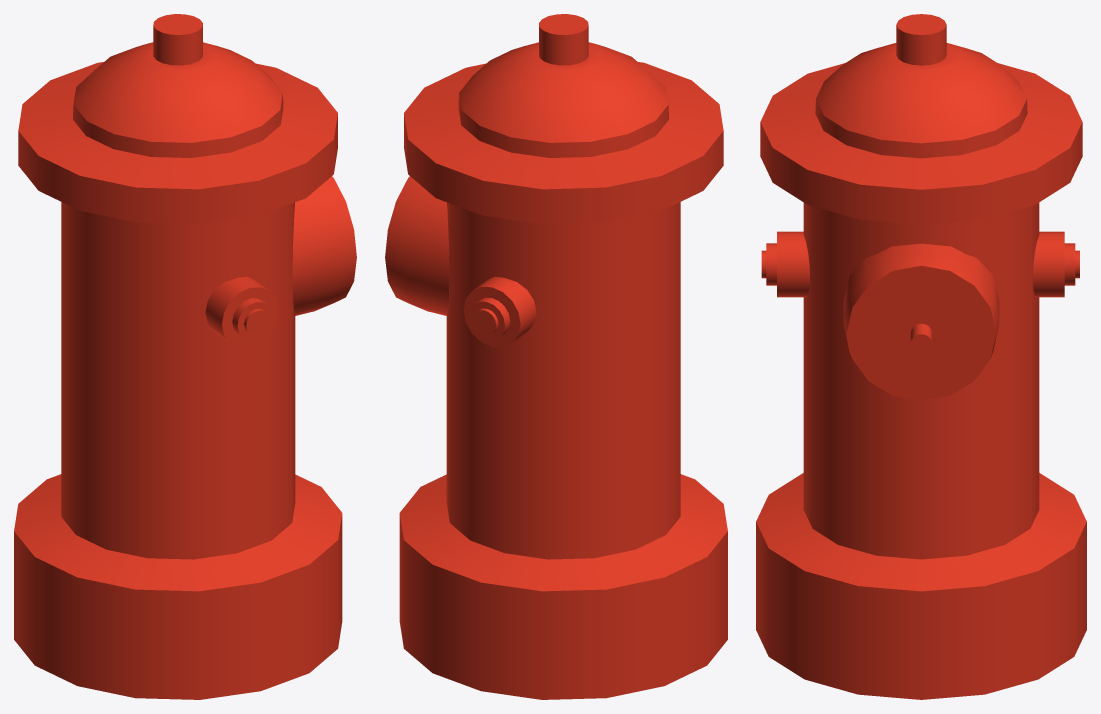
The model's file is FireHydrant.fbx.
3 renders of one model, left to right at view 1: azimuth 30°, elevation 25°; view 2: azimuth 150°, elevation 25°; view 3: azimuth 270°, elevation 25°, orthographic.
Parts seen in each view (by area): view 1: Cylinder; view 2: Cylinder; view 3: Cylinder.
Boxes of the visible parts, <box> form: Cylinder: <box>14,14,356,699</box>; Cylinder: <box>385,14,727,699</box>; Cylinder: <box>756,14,1086,699</box>.
Bounding box in the file's own units: 1.5 × 1.4 × 2.83.
